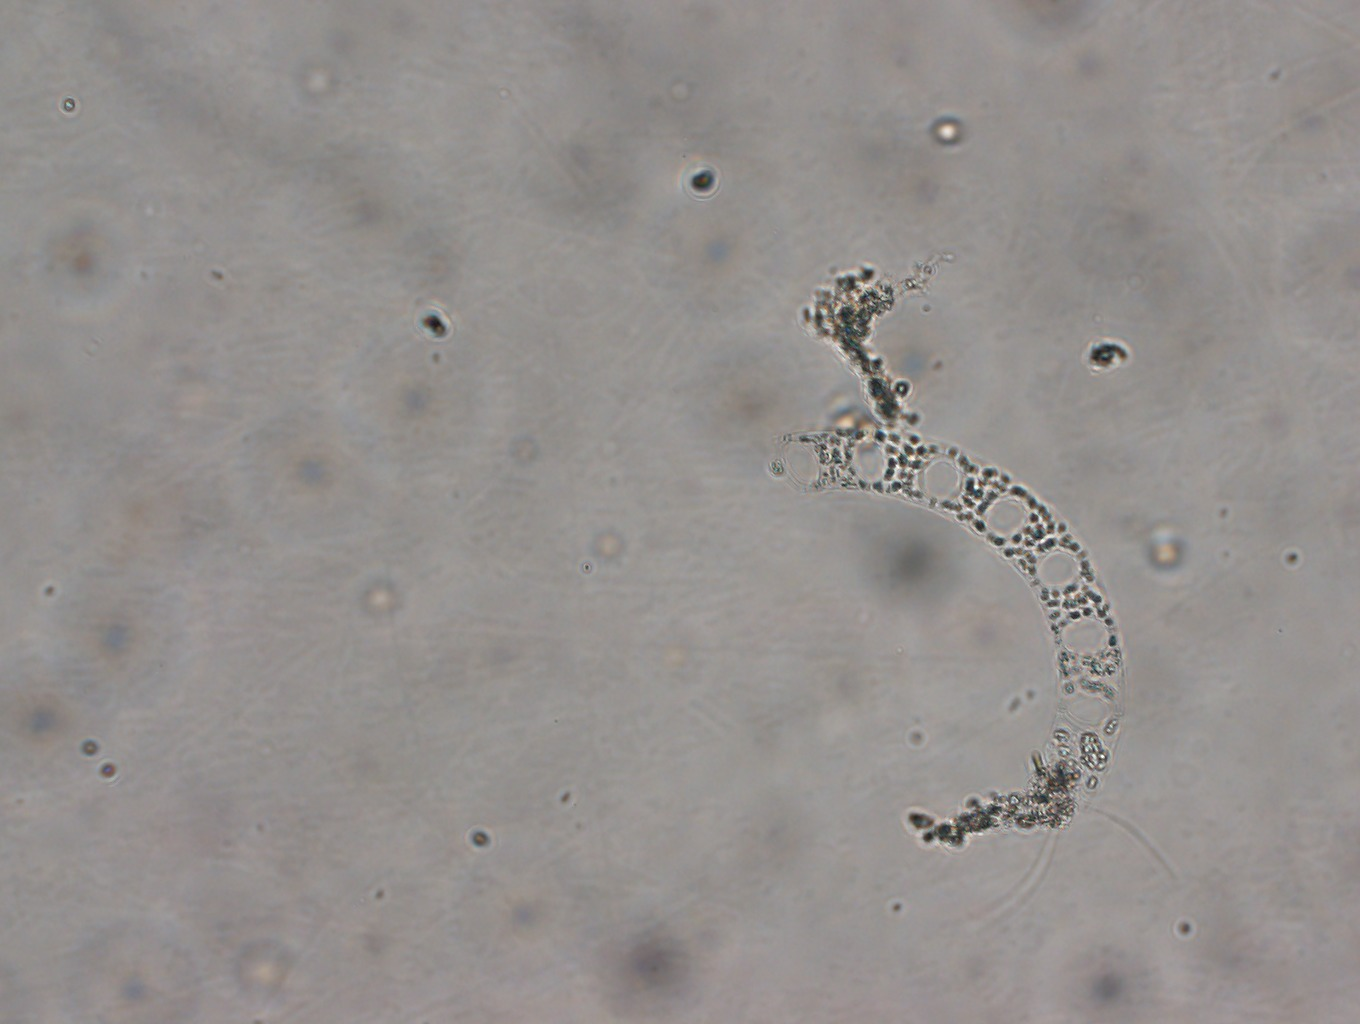eucampia: (769, 415, 1133, 769)
